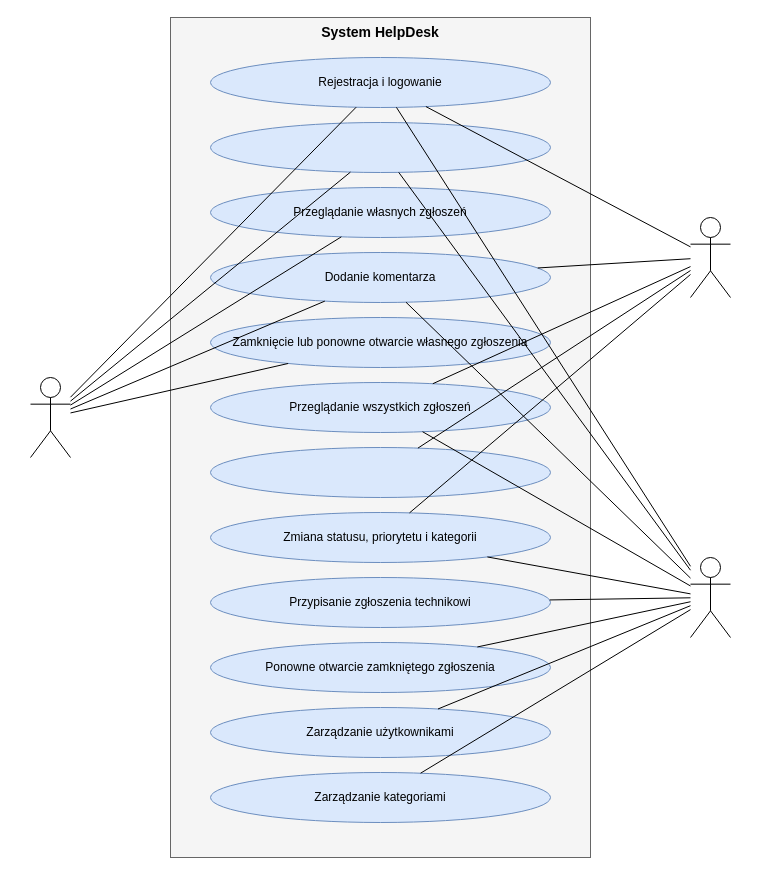
The diagram is 767 pixels wide and 875 high, and some of its shapes have lost their labels. The centre of each missing label's shape, as x and y in pixels:
"Administrator" belongs at [710,597].
"Przejęcie zgłoszenia" belongs at [380,472].
"Technik" belongs at [710,257].
"Utworzenie zgłoszenia" belongs at [380,147].
"Użytkownik" belongs at [50,417].
